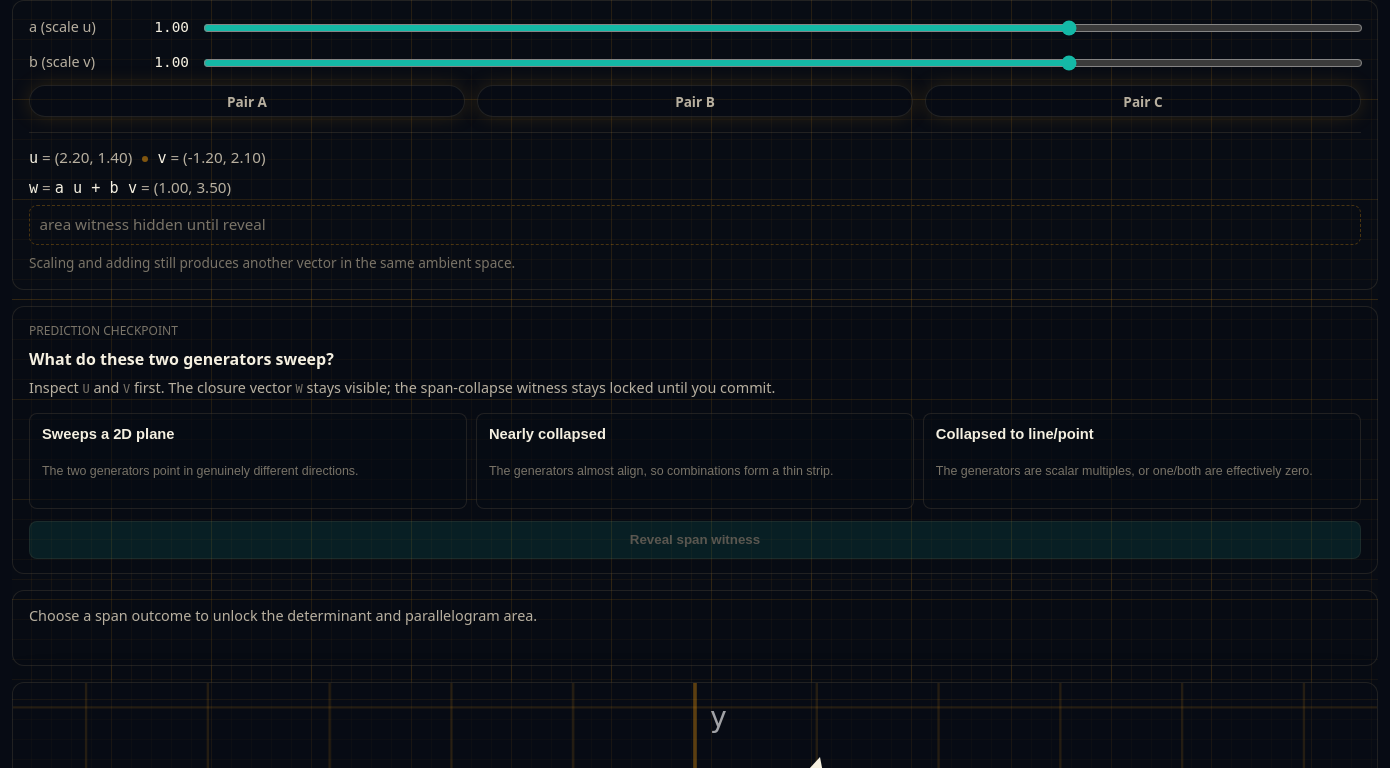
VectorSpacesViz span-collapse reveal › hides determinant, area, span status, and measured demo state before reveal
Expected: the button "Reveal span witness" is disabled, [29,521,1361,559]
Expected: the text "area witness hidden until reveal" is shown, [29,205,1361,245]
Click the button "Sweeps a 2D plane" at (248, 461), box [29,413,467,509]
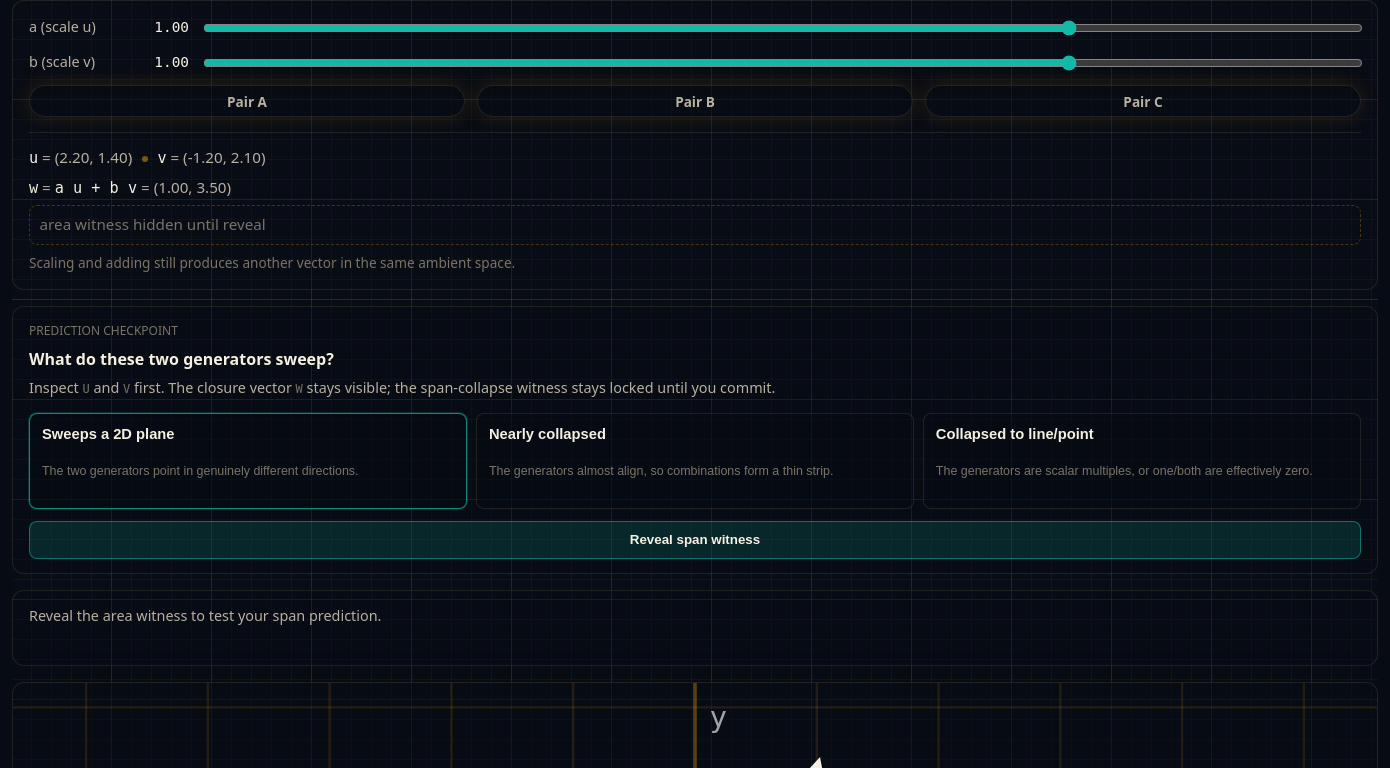
Result: the button "Reveal span witness" is enabled at [29,521,1361,559]
